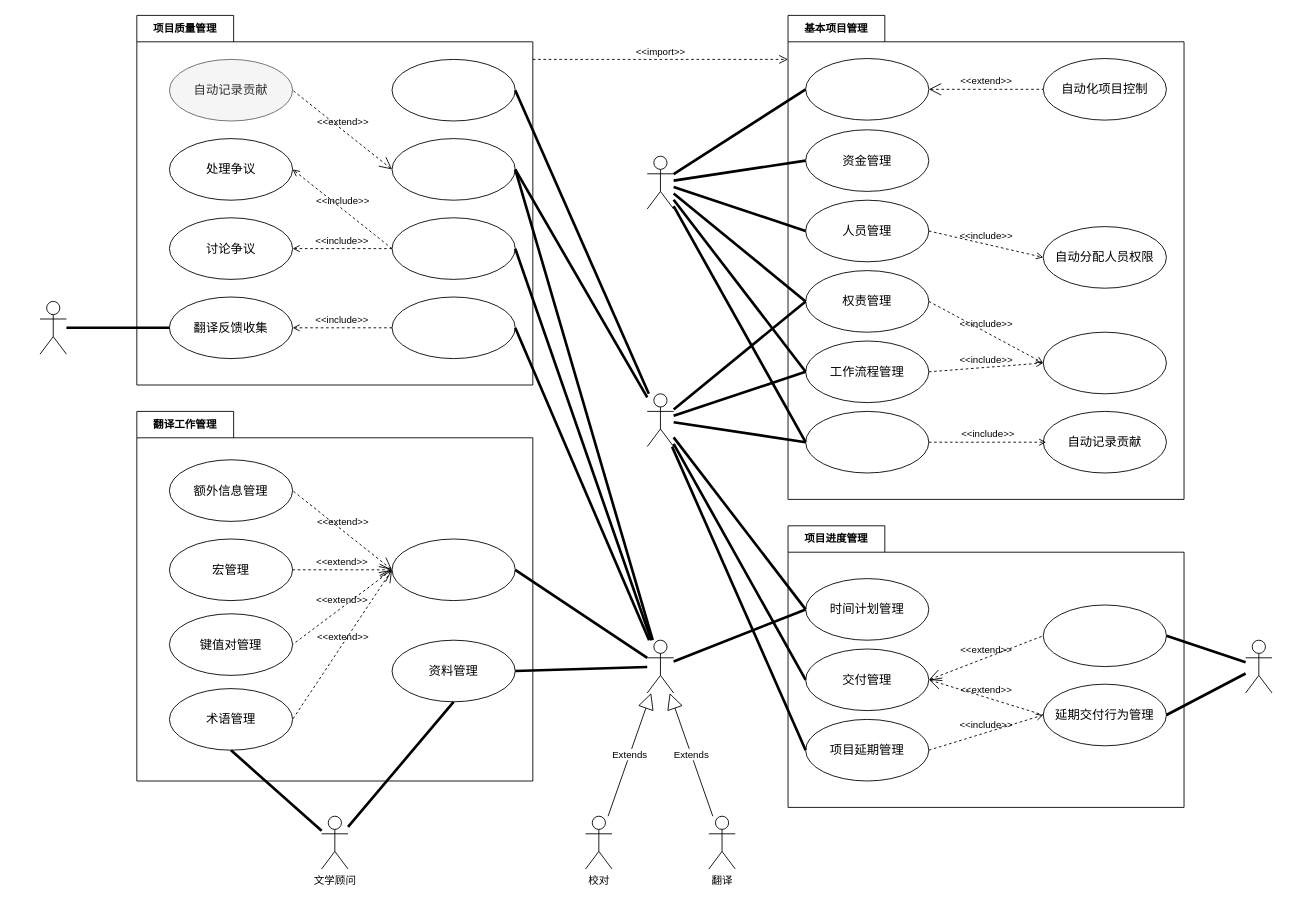
This 1307x903 diagram has some shape labels left out. The centre of each missing label's shape, as x and y in pixels:
原文与译文管理: [453,569]
工作流程控制: [1104,362]
工作记录管理: [453,169]
生命周期管理: [867,89]
组长: [660,182]
绩效管理: [867,442]
翻译争议管理: [453,248]
翻译反馈管理: [453,327]
翻译反馈者/玩家: [52,327]
翻译工作者: [660,666]
翻译组长: [660,420]
自动交付: [1104,635]
运营/发布人员: [1258,666]
项目标准管理: [453,90]
